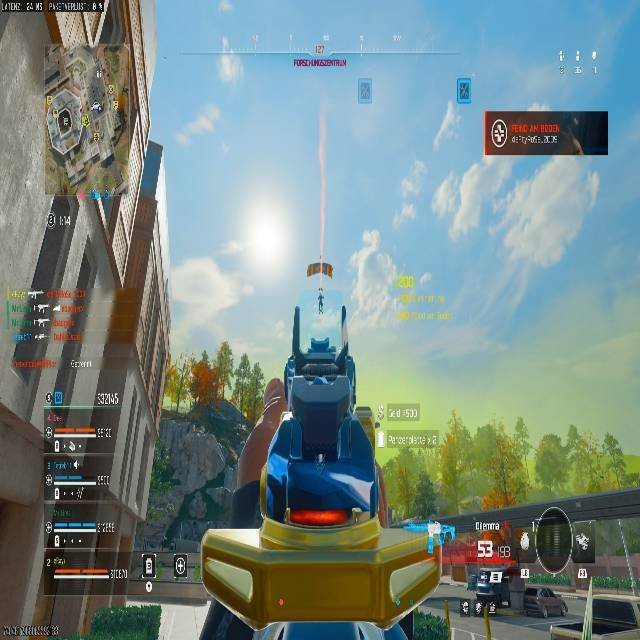player: (347, 228, 398, 336)
